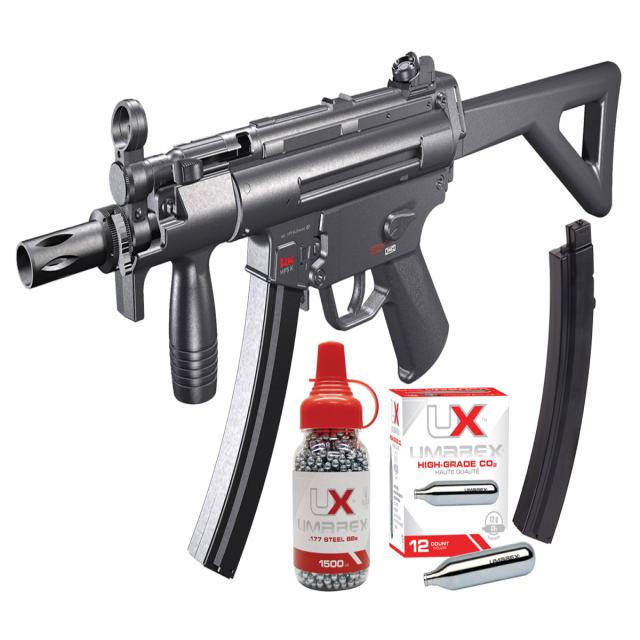SMG: (15, 54, 623, 581)
